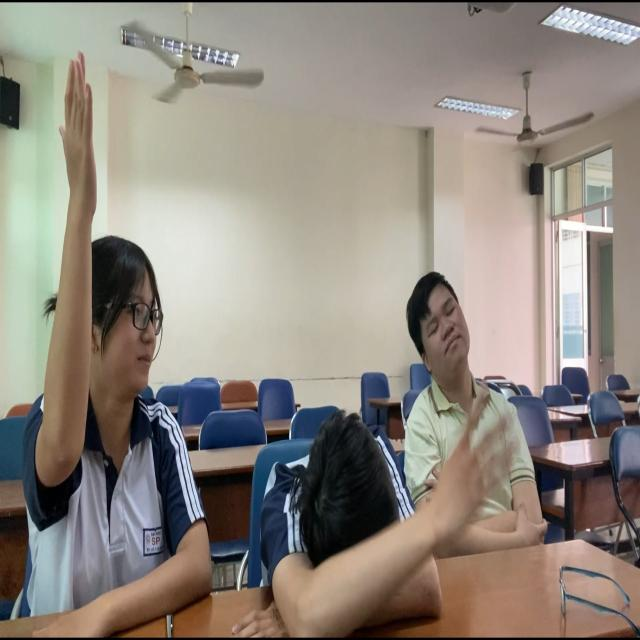raise_hand: (17, 47, 216, 625)
